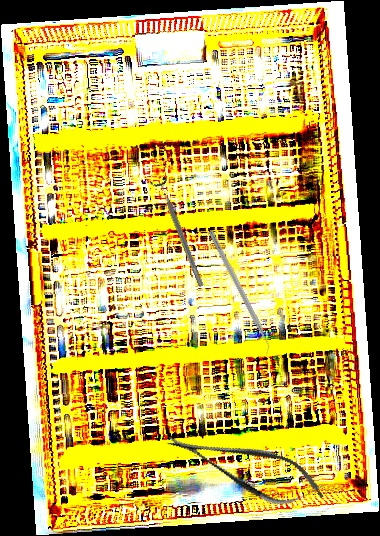Chopper: (201, 229, 275, 358)
Fixation Ring: (149, 176, 210, 290)
Micro Scissor: (159, 413, 333, 521)
